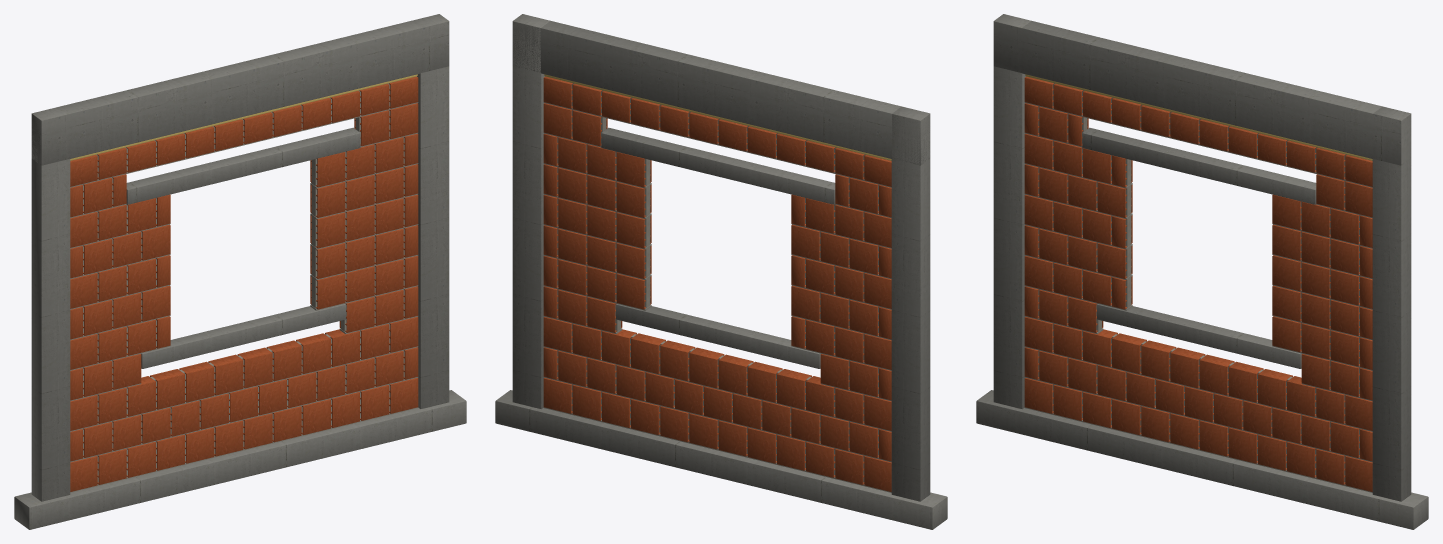
File: KIT-ALV-01.glb
The picture shows the model from 3 angles, left to right: view 1: azimuth 30°, elevation 25°; view 2: azimuth 150°, elevation 25°; view 3: azimuth 330°, elevation 25°; orthographic projection.
Visible parts, largest first — view 1: KIT-ALV-01_viga, KIT-ALV-01_pilar-1, KIT-ALV-01_base, KIT-ALV-01_pilar1, KIT-ALV-01_verga, KIT-ALV-01_contraverga, KIT-ALV-01, KIT-ALV-01_u30, KIT-ALV-01_u31, KIT-ALV-01_u29, KIT-ALV-01_u32, KIT-ALV-01_u33 (+84 smaller); view 2: KIT-ALV-01_viga, KIT-ALV-01_pilar-1, KIT-ALV-01_base, KIT-ALV-01_pilar1, KIT-ALV-01_verga, KIT-ALV-01_contraverga, KIT-ALV-01, KIT-ALV-01_u31, KIT-ALV-01_u30, KIT-ALV-01_u29, KIT-ALV-01_u32, KIT-ALV-01_u33 (+84 smaller); view 3: KIT-ALV-01_viga, KIT-ALV-01_pilar1, KIT-ALV-01_base, KIT-ALV-01_pilar-1, KIT-ALV-01_verga, KIT-ALV-01_contraverga, KIT-ALV-01, KIT-ALV-01_u30, KIT-ALV-01_u31, KIT-ALV-01_u32, KIT-ALV-01_u29, KIT-ALV-01_u28 (+84 smaller).
Boxes of the visible parts, <box> form: KIT-ALV-01_viga: <box>31,21,449,165</box>; KIT-ALV-01_pilar-1: <box>31,106,70,501</box>; KIT-ALV-01_base: <box>14,390,466,529</box>; KIT-ALV-01_pilar1: <box>411,14,449,408</box>; KIT-ALV-01_verga: <box>126,127,360,204</box>; KIT-ALV-01_contraverga: <box>141,304,345,368</box>; KIT-ALV-01: <box>310,110,418,334</box>; KIT-ALV-01_u30: <box>208,354,243,395</box>; KIT-ALV-01_u31: <box>237,347,272,388</box>; KIT-ALV-01_u29: <box>179,361,214,402</box>; KIT-ALV-01_u32: <box>266,340,301,381</box>; KIT-ALV-01_u33: <box>296,333,330,373</box>; KIT-ALV-01_viga: <box>512,21,930,165</box>; KIT-ALV-01_pilar-1: <box>891,106,930,501</box>; KIT-ALV-01_base: <box>495,390,947,529</box>; KIT-ALV-01_pilar1: <box>512,14,550,408</box>; KIT-ALV-01_verga: <box>601,127,835,204</box>; KIT-ALV-01_contraverga: <box>616,304,820,368</box>; KIT-ALV-01: <box>543,110,651,334</box>; KIT-ALV-01_u31: <box>689,347,724,388</box>; KIT-ALV-01_u30: <box>718,354,753,395</box>; KIT-ALV-01_u29: <box>747,361,782,402</box>; KIT-ALV-01_u32: <box>660,340,695,381</box>; KIT-ALV-01_u33: <box>631,333,665,373</box>; KIT-ALV-01_viga: <box>993,21,1401,165</box>; KIT-ALV-01_pilar1: <box>1372,106,1411,501</box>; KIT-ALV-01_base: <box>976,390,1428,529</box>; KIT-ALV-01_pilar-1: <box>993,14,1031,408</box>; KIT-ALV-01_verga: <box>1082,127,1316,204</box>; KIT-ALV-01_contraverga: <box>1097,304,1301,368</box>; KIT-ALV-01: <box>1272,181,1372,401</box>; KIT-ALV-01_u30: <box>1170,347,1205,388</box>; KIT-ALV-01_u31: <box>1199,354,1234,395</box>; KIT-ALV-01_u32: <box>1228,361,1263,402</box>; KIT-ALV-01_u29: <box>1141,340,1176,381</box>; KIT-ALV-01_u28: <box>1112,333,1146,373</box>.
Size of the model in its own units: 3 by 2.65 by 0.18.
4 materials, 4 textured.
